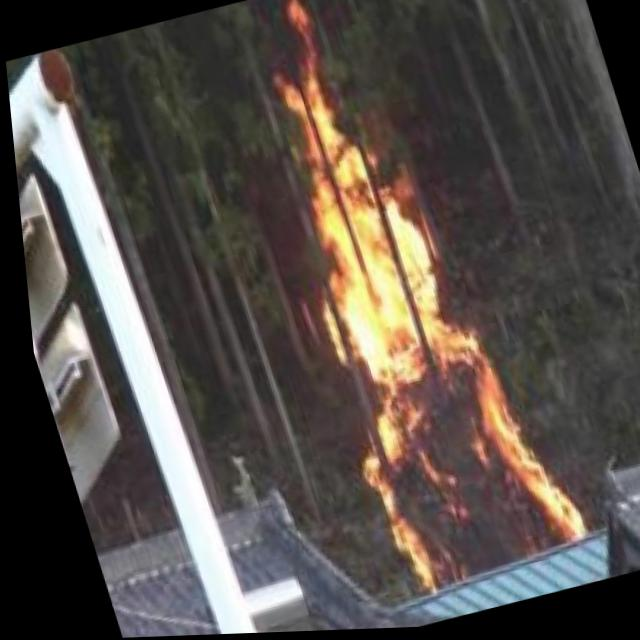Fire: (219, 0, 584, 606)
